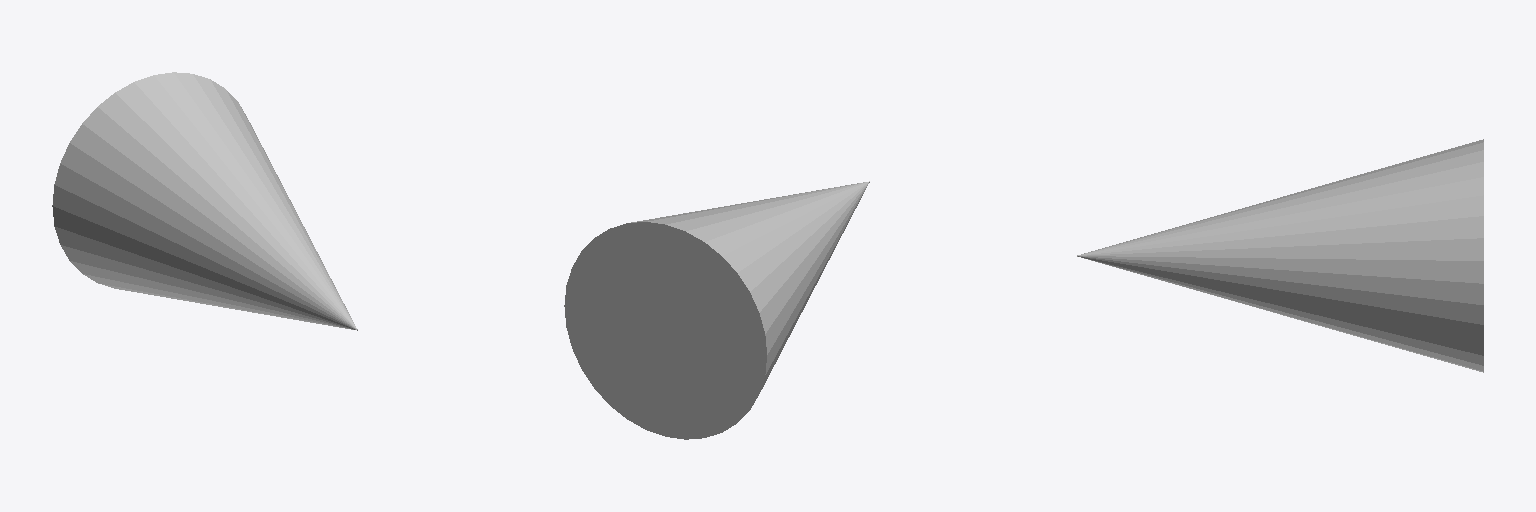
File: Tree.obj
The picture shows the model from 3 angles: view 1: azimuth 30°, elevation 25°; view 2: azimuth 150°, elevation 25°; view 3: azimuth 270°, elevation 25°; orthographic projection.
Visible parts, largest first — view 1: Tree_Cone; view 2: Tree_Cone; view 3: Tree_Cone.
Part boxes in pixels (x1,y1,x2,y2): Tree_Cone: (52,72,357,330); Tree_Cone: (564,181,869,439); Tree_Cone: (1077,139,1483,372).
Size of the model in its own units: 2.8 by 2.8 by 4.89.